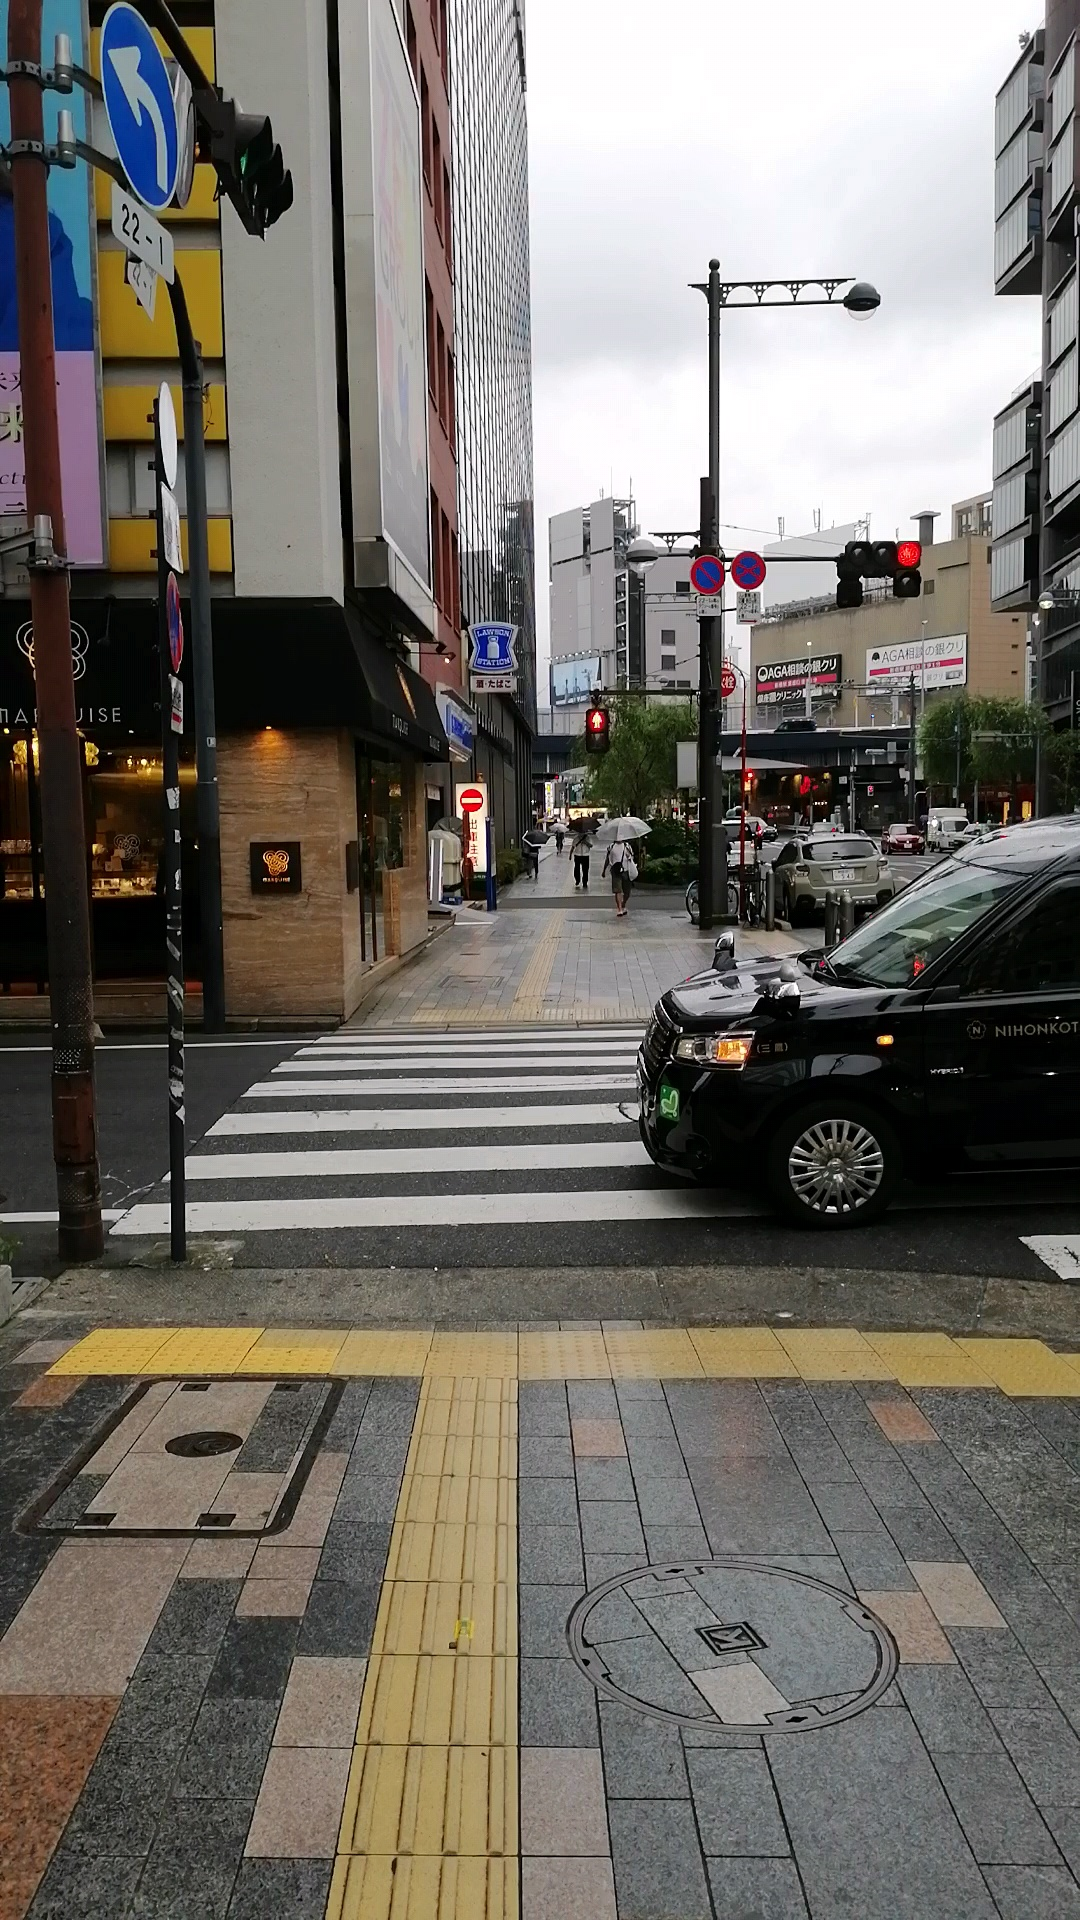red: (583, 705, 611, 754)
